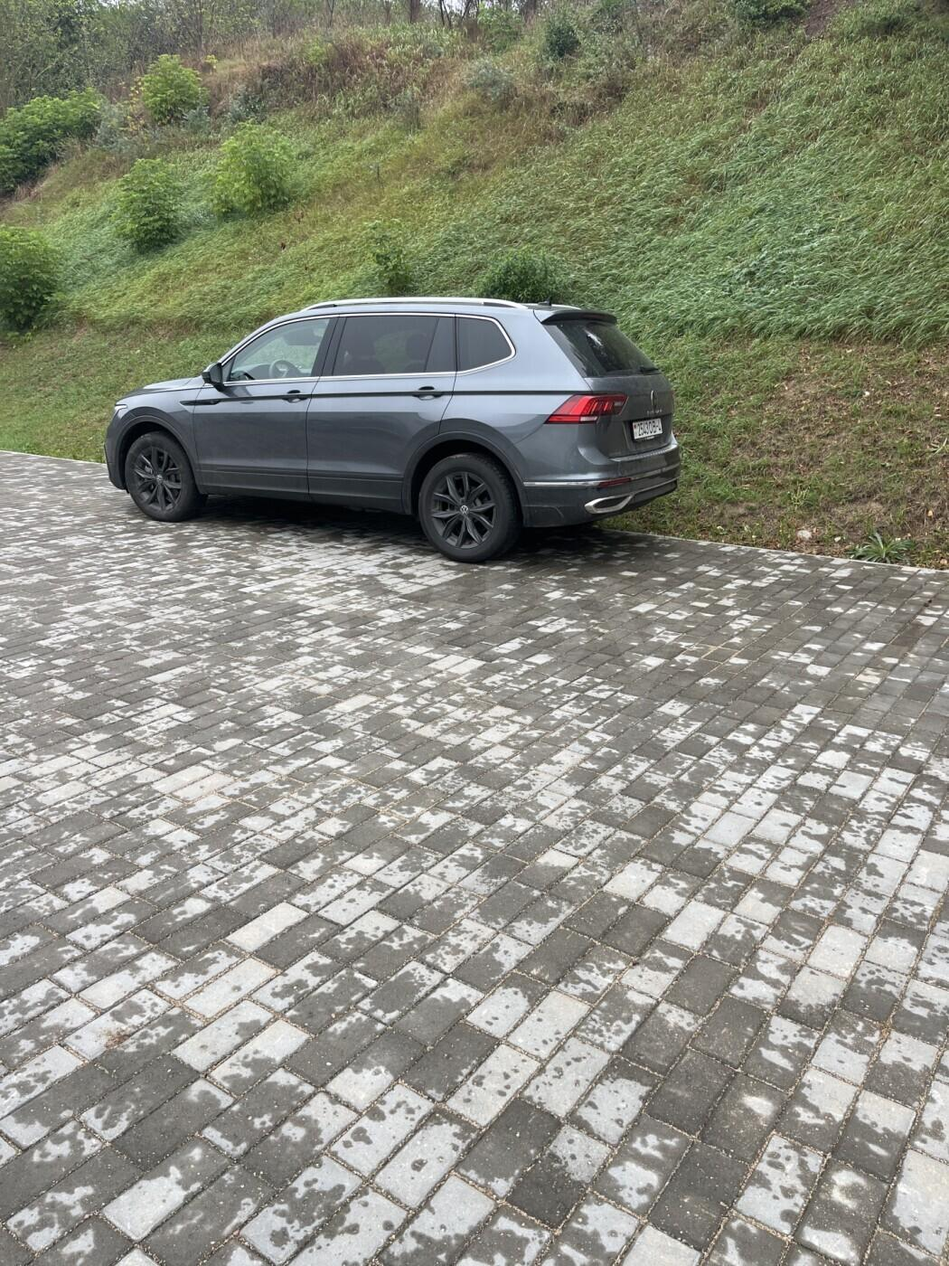Tiguan_2020-2024: (101, 297, 680, 562)
